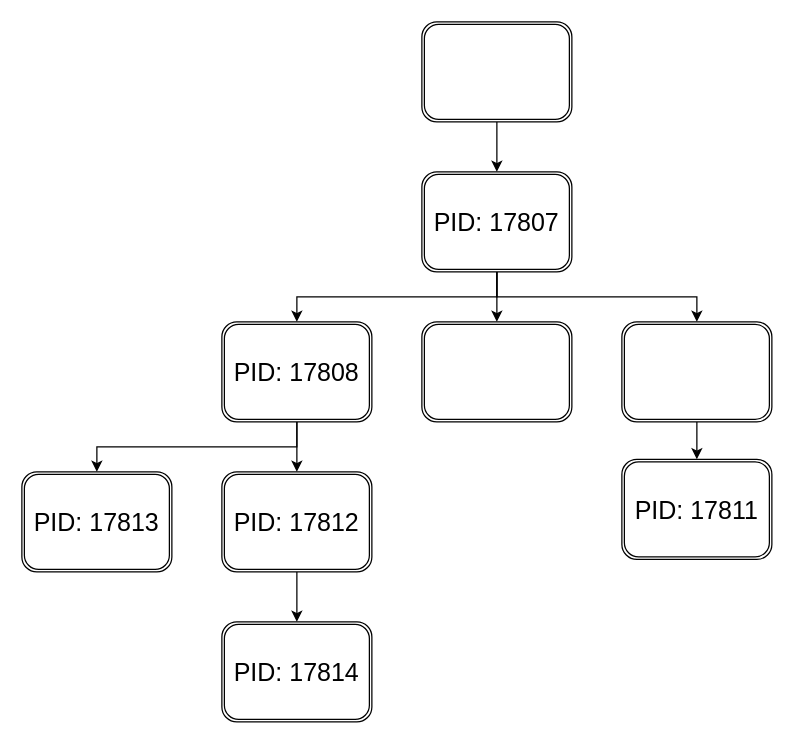
Some shapes in this 794 by 744 pixel diagram are drawn without their labels. The centre of each missing label's shape, as x and y in pixels:
PID: 17809: the point at 696,371
PID: 17810: the point at 496,371
PID: 5649: the point at 496,71
